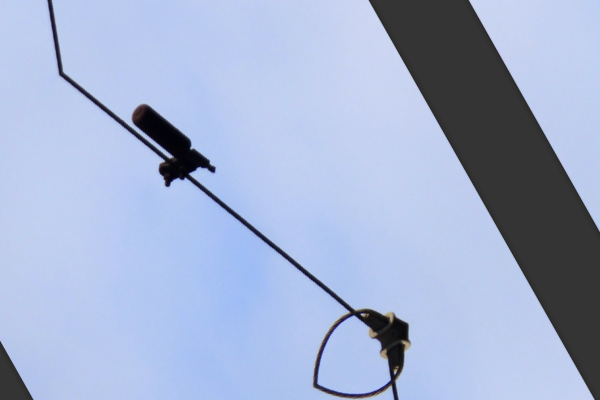damper_defect: (129, 103, 220, 190)
